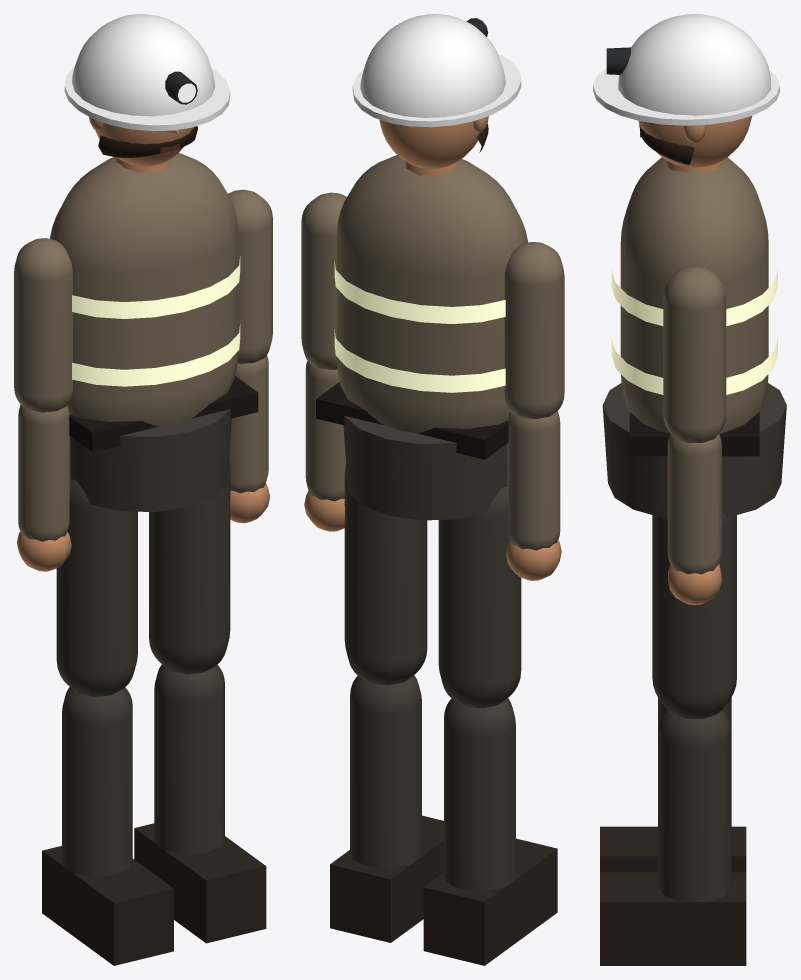
File: worker_rodrigo.glb
3 renders of one model, left to right at view 1: azimuth 30°, elevation 25°; view 2: azimuth 150°, elevation 25°; view 3: azimuth 270°, elevation 25°, orthographic.
Visible parts, largest first — view 1: worker_torso, worker_legs_0_knee, worker_legs_1_knee, worker_head, worker_legs_0_hip, worker_legs_1_hip, worker_arms_0_sh, worker_arms_0_el, worker_arms_1_sh, worker_arms_1_el, worker_arms_0_hand, worker_arms_1_hand; view 2: worker_torso, worker_legs_0_knee, worker_legs_1_knee, worker_head, worker_legs_0_hip, worker_legs_1_hip, worker_arms_0_sh, worker_arms_0_el, worker_arms_1_sh, worker_arms_1_el, worker_arms_0_hand, worker_arms_1_hand; view 3: worker_torso, worker_legs_1_knee, worker_head, worker_legs_1_hip, worker_arms_1_sh, worker_arms_1_el, worker_legs_0_knee, worker_arms_1_hand.
Boxes of the visible parts, x1,y1,x2,y2 form: worker_torso: [50, 152, 258, 511]; worker_legs_0_knee: [42, 687, 173, 965]; worker_legs_1_knee: [134, 664, 266, 943]; worker_head: [64, 14, 230, 166]; worker_legs_0_hip: [56, 479, 137, 696]; worker_legs_1_hip: [149, 458, 230, 674]; worker_arms_0_sh: [14, 238, 72, 412]; worker_arms_0_el: [18, 404, 70, 541]; worker_arms_1_sh: [228, 189, 272, 364]; worker_arms_1_el: [229, 355, 268, 493]; worker_arms_0_hand: [17, 531, 71, 571]; worker_arms_1_hand: [230, 483, 269, 523]; worker_torso: [316, 155, 528, 520]; worker_legs_0_knee: [423, 698, 557, 965]; worker_legs_1_knee: [330, 675, 443, 942]; worker_head: [352, 14, 521, 168]; worker_legs_0_hip: [438, 487, 521, 708]; worker_legs_1_hip: [344, 466, 427, 685]; worker_arms_0_sh: [504, 242, 564, 419]; worker_arms_0_el: [507, 411, 560, 550]; worker_arms_1_sh: [301, 192, 346, 369]; worker_arms_1_el: [305, 361, 345, 501]; worker_arms_0_hand: [506, 540, 561, 580]; worker_arms_1_hand: [304, 491, 344, 531]; worker_torso: [602, 157, 786, 517]; worker_legs_1_knee: [600, 710, 746, 965]; worker_head: [593, 14, 779, 167]; worker_legs_1_hip: [652, 512, 736, 718]; worker_arms_1_sh: [663, 266, 726, 442]; worker_arms_1_el: [667, 434, 721, 574]; worker_legs_0_knee: [600, 697, 746, 872]; worker_arms_1_hand: [668, 563, 721, 605].
Bounding box in the file's own units: 0.5403 × 1.85 × 0.3575.
